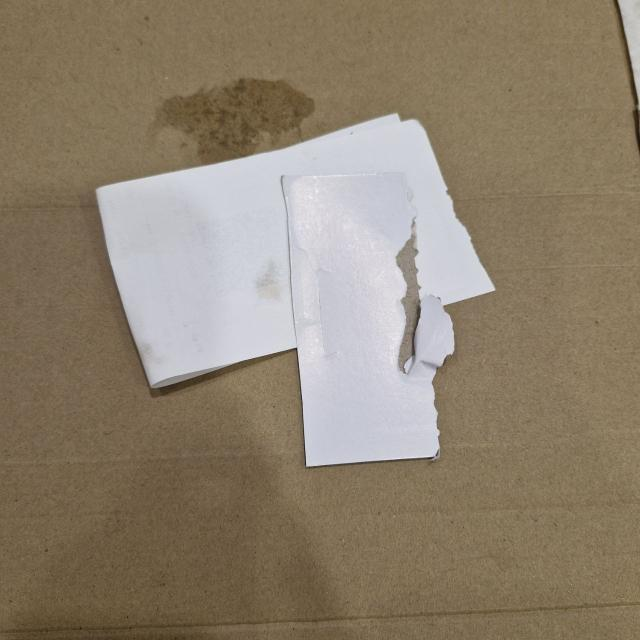paper: (94, 108, 514, 374), (270, 162, 462, 468)
